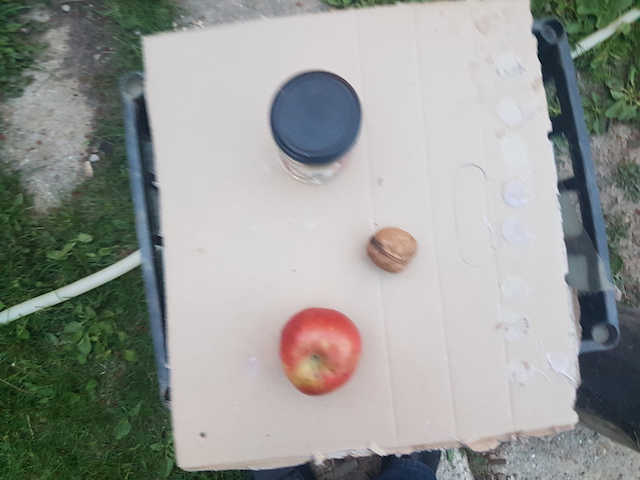apple: (275, 305, 361, 399)
nut: (367, 225, 419, 275)
recipient: (270, 69, 362, 159)
